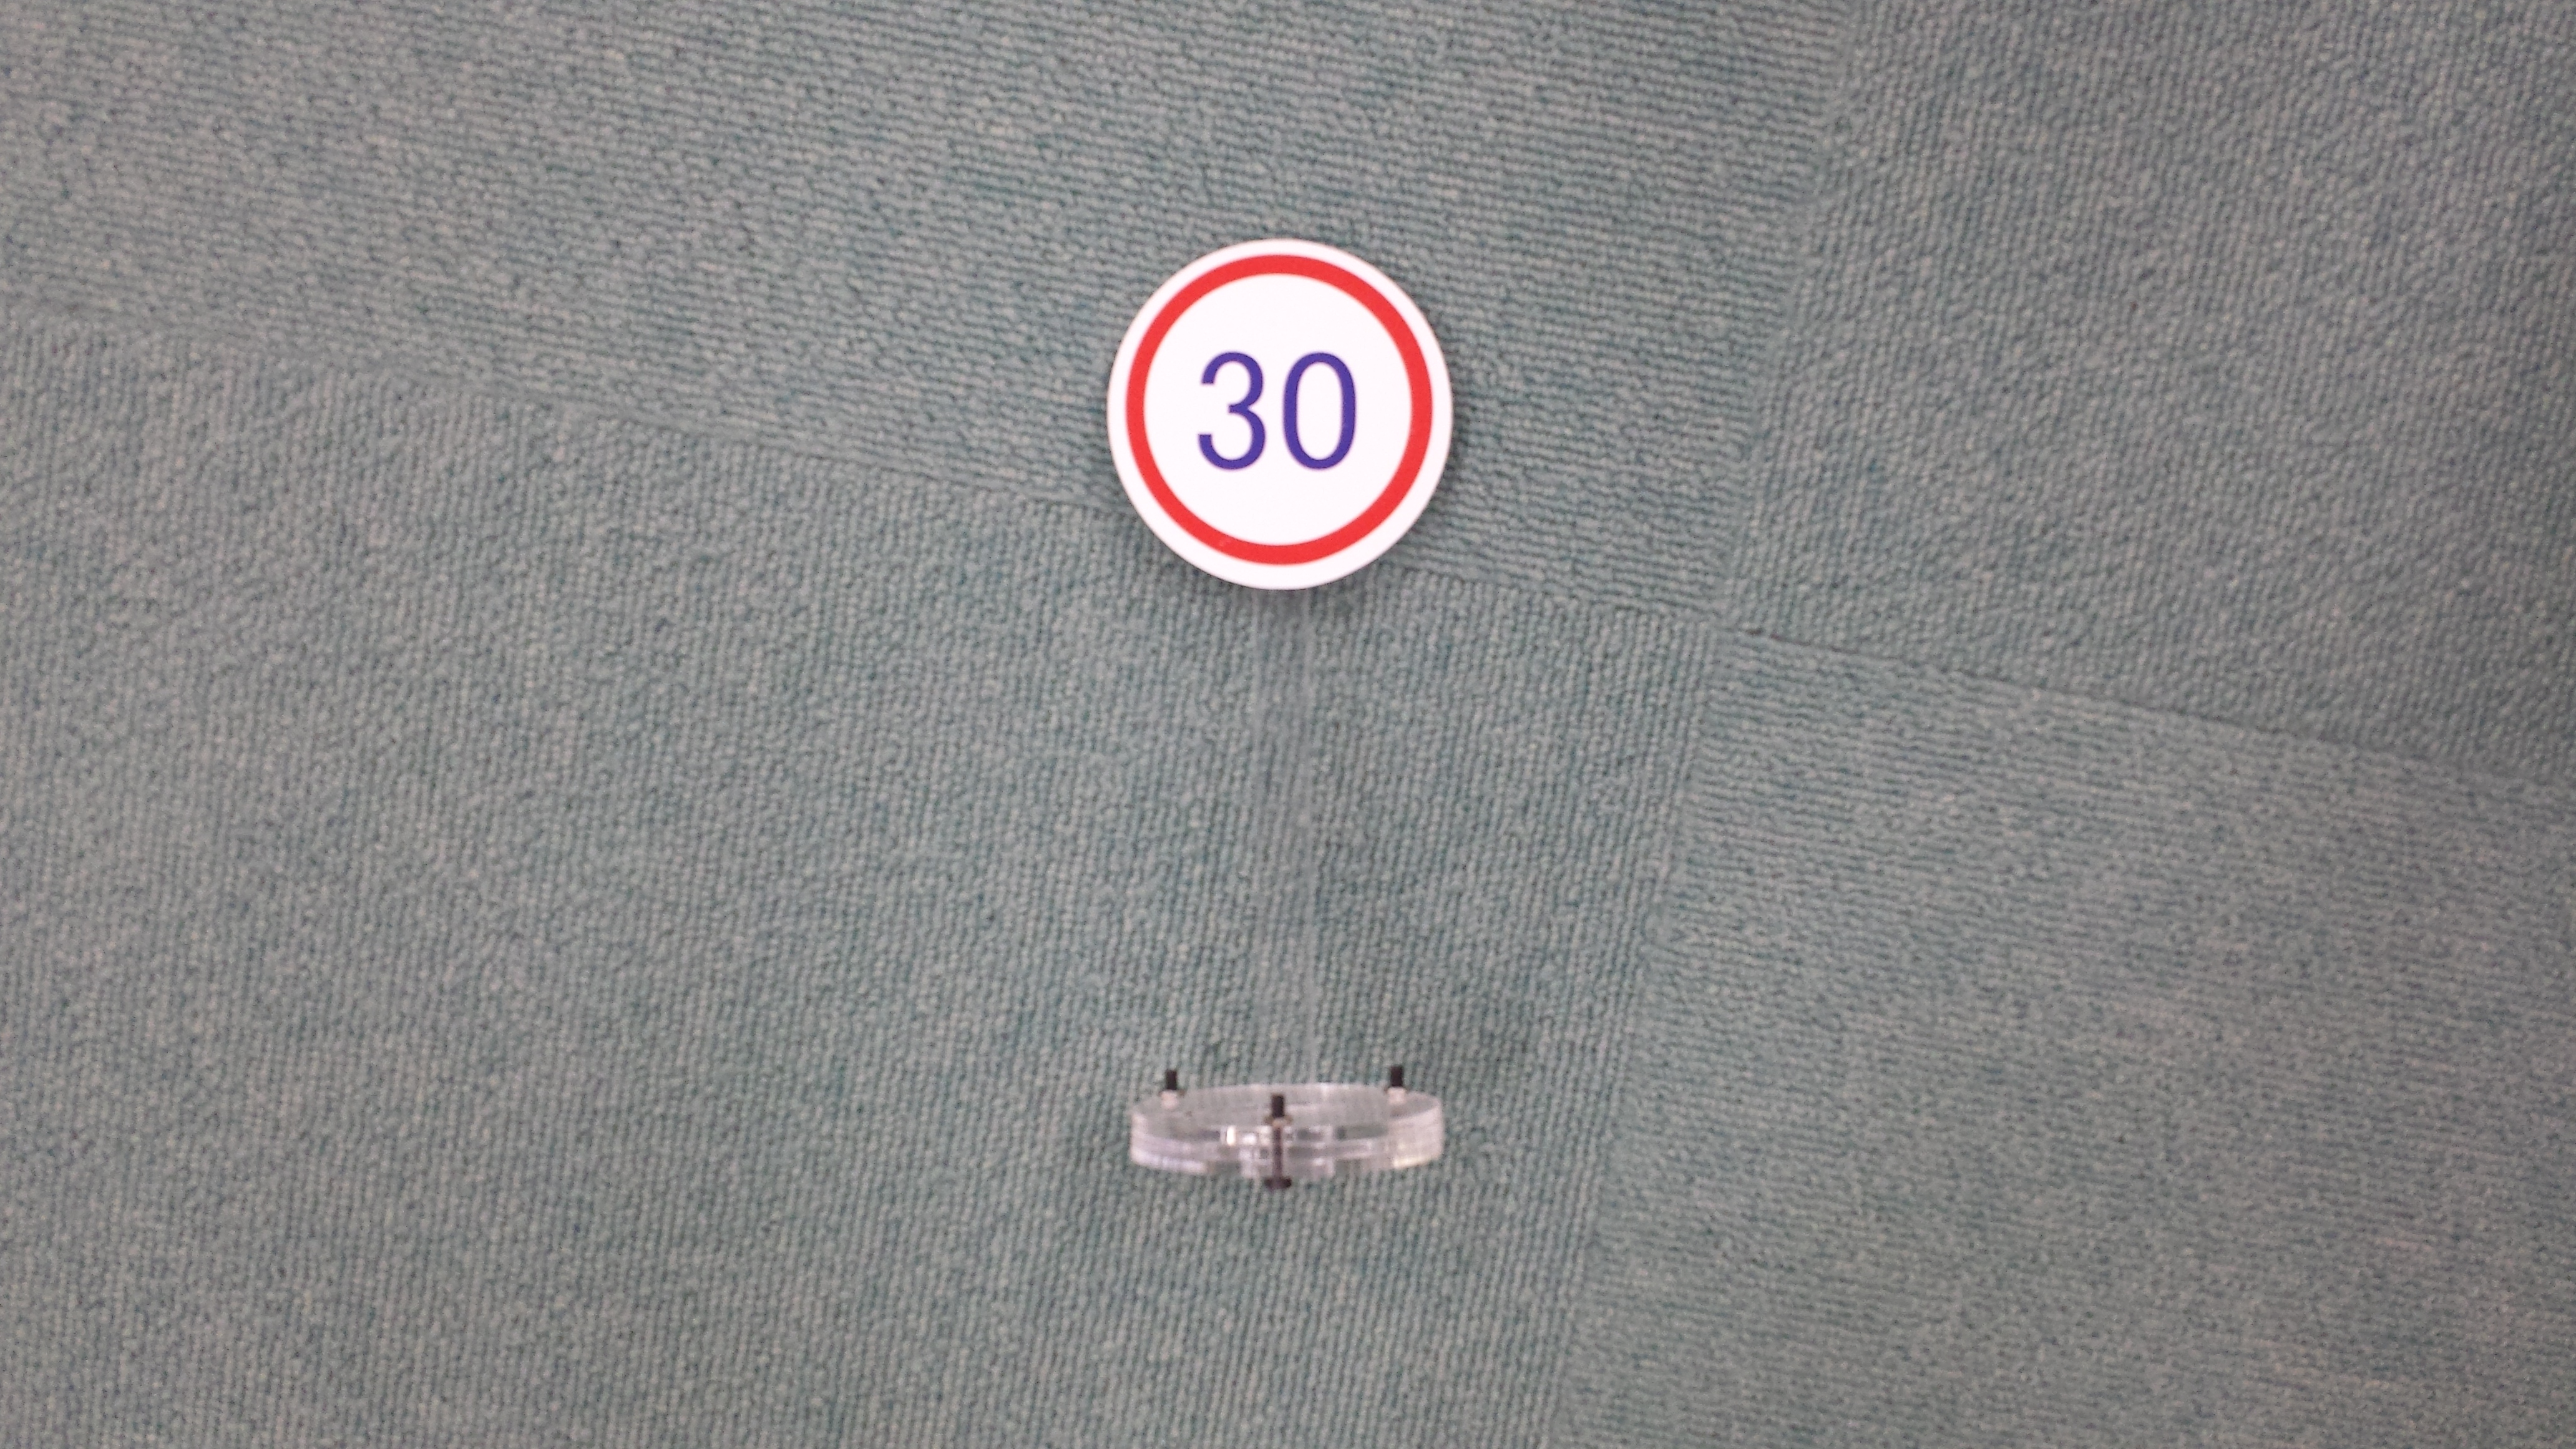speed_30: (1102, 241, 1463, 602)
